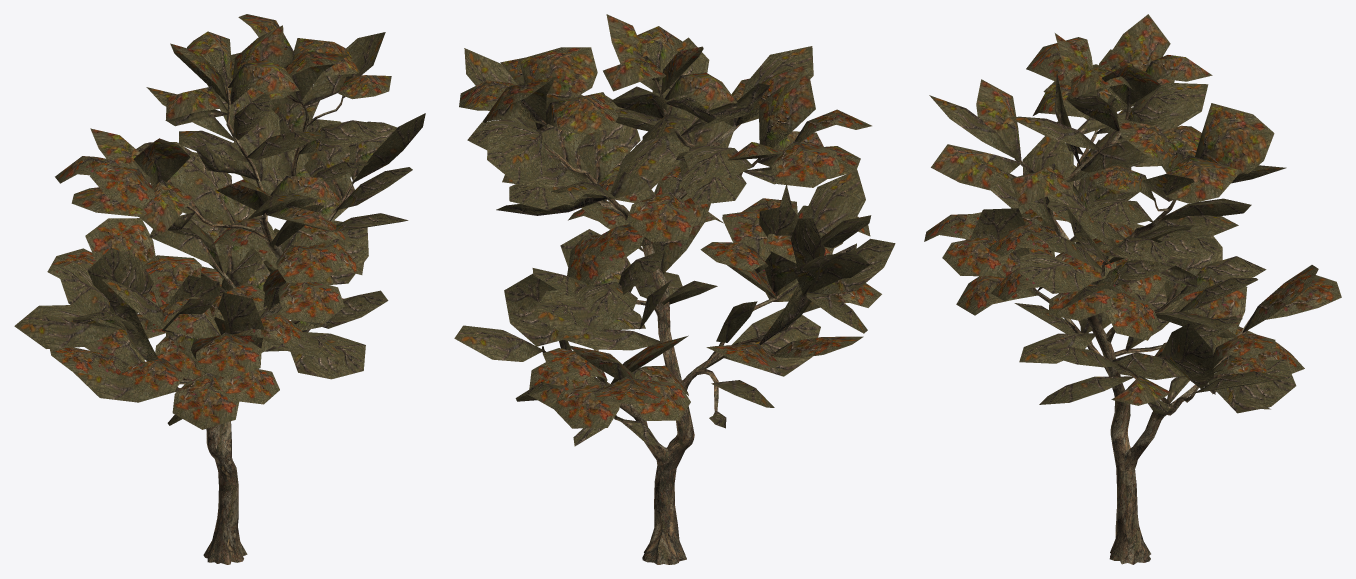
The model's file is FBXTree.FBX.
3 views of the same model, side by side, from view 1: azimuth 30°, elevation 25°; view 2: azimuth 150°, elevation 25°; view 3: azimuth 270°, elevation 25° (orthographic). The views are drawn at different scales.
Visible parts, largest first — view 1: LV_Hieracon_Tree_AspenTree01_SM_NWCNIK; view 2: LV_Hieracon_Tree_AspenTree01_SM_NWCNIK; view 3: LV_Hieracon_Tree_AspenTree01_SM_NWCNIK.
Part boxes in pixels (x1=…): LV_Hieracon_Tree_AspenTree01_SM_NWCNIK: x1=14, y1=14, x2=425, y2=564; LV_Hieracon_Tree_AspenTree01_SM_NWCNIK: x1=454, y1=14, x2=895, y2=564; LV_Hieracon_Tree_AspenTree01_SM_NWCNIK: x1=924, y1=14, x2=1341, y2=564.
Bounding box in the file's own units: 231 × 298 × 217.
